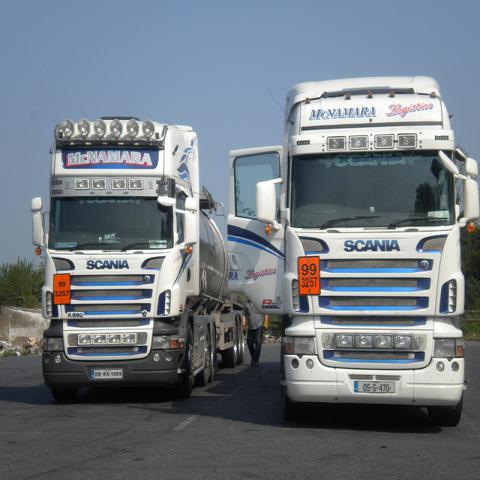truck: (222, 69, 479, 436), (23, 120, 259, 405)
